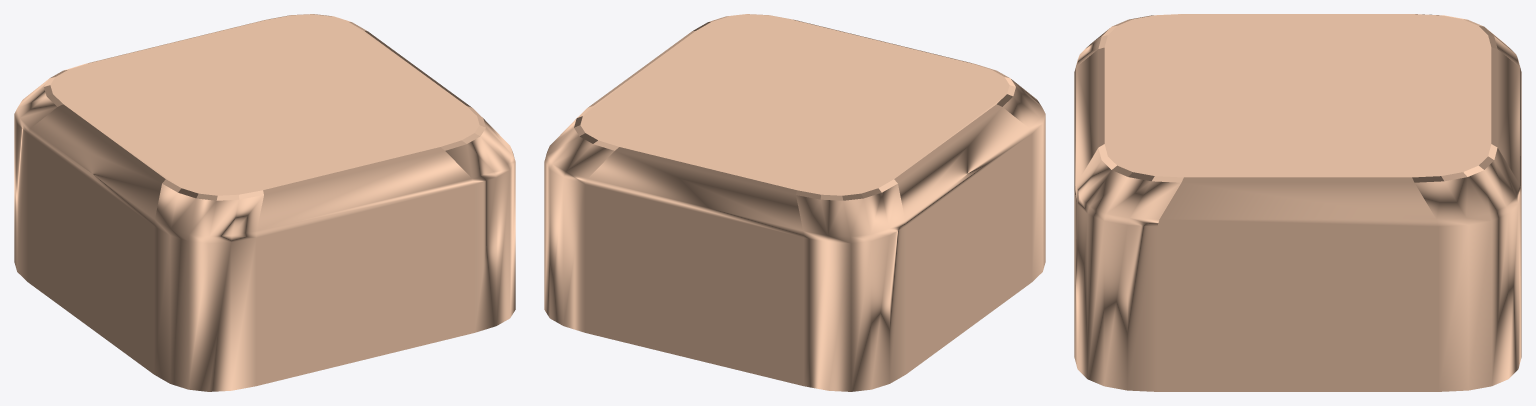
The model's file is drop_rail_grid_foundation_a.glb.
3 renders of one model, left to right at view 1: azimuth 30°, elevation 25°; view 2: azimuth 150°, elevation 25°; view 3: azimuth 270°, elevation 25°, orthographic. The views are drawn at different scales.
Bounding box in the file's own units: 10.76 × 5.35 × 10.76.
